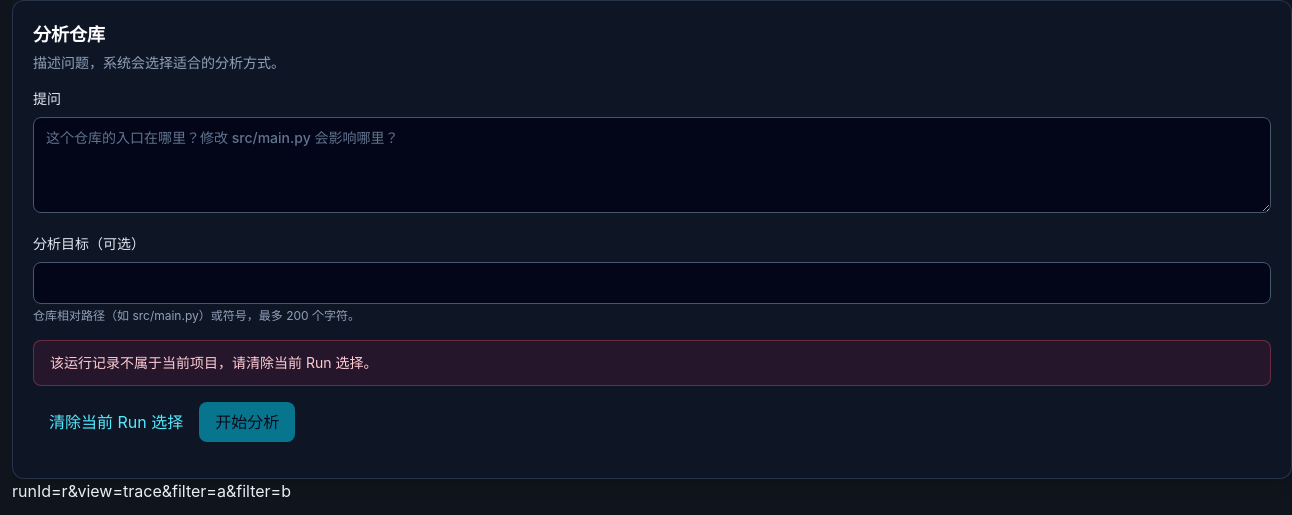
it: does not display or lock on a foreign project Run or invalidate its history
The image size is (1292, 515).
Check: the message shows "不属于当前项目", box x1=50 y1=354 x2=377 y2=371
In the text box labelled "提问": (652, 165) x1=33 y1=117 x2=1271 y2=213, type "Local question"
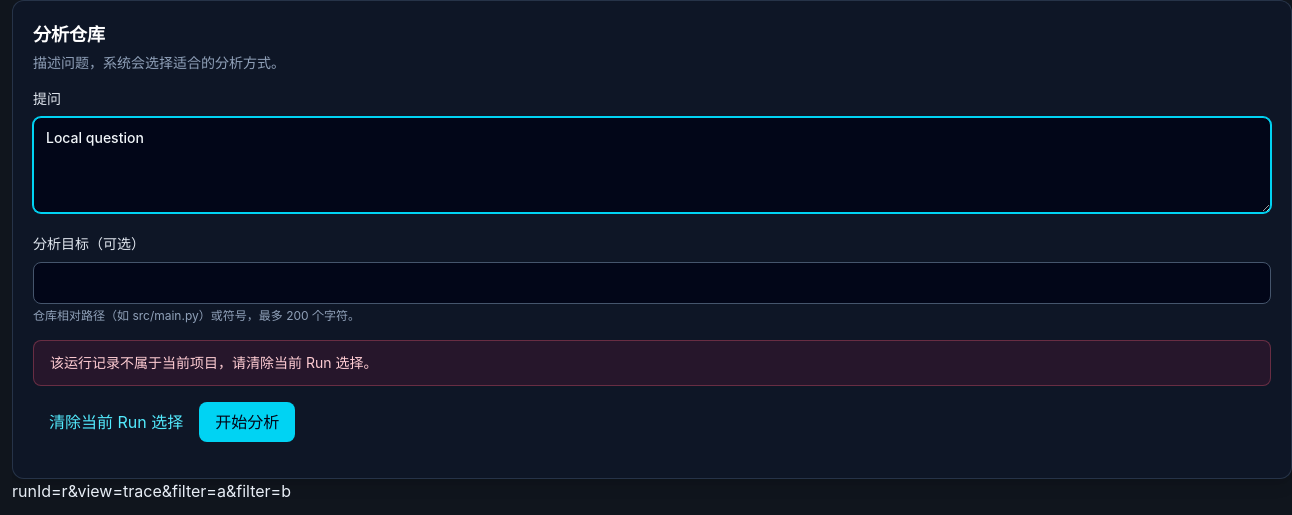
Check: the button "开始分析" is enabled, box x1=199 y1=402 x2=295 y2=442
Click the button "清除当前 Run 选择": (116, 422) x1=33 y1=402 x2=199 y2=442
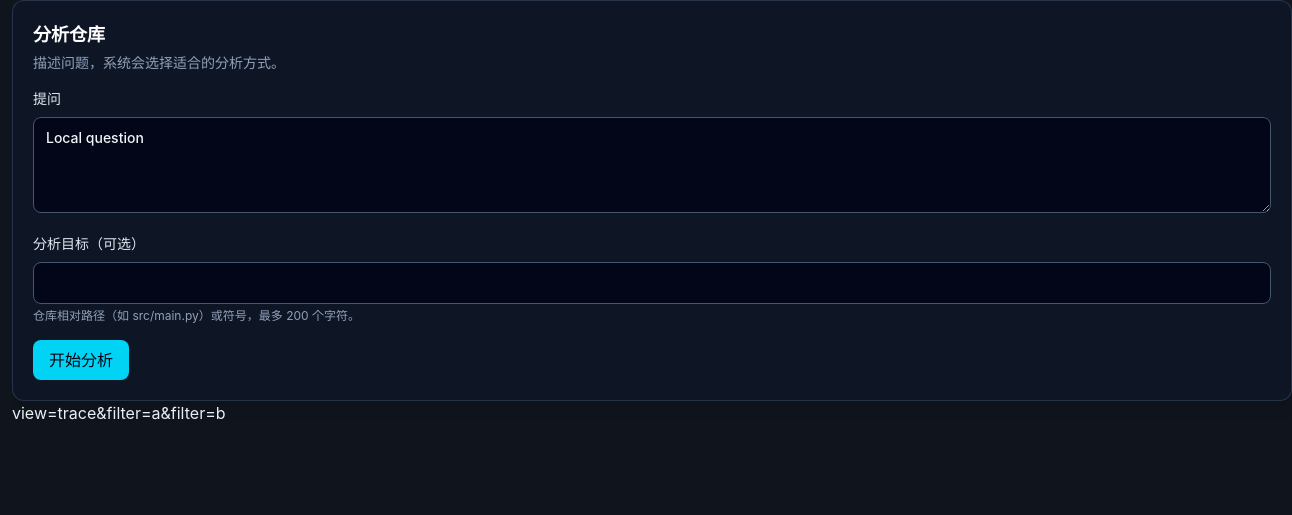
Check: the text named "查询参数" no longer shows "runId", box x1=12 y1=403 x2=226 y2=423
